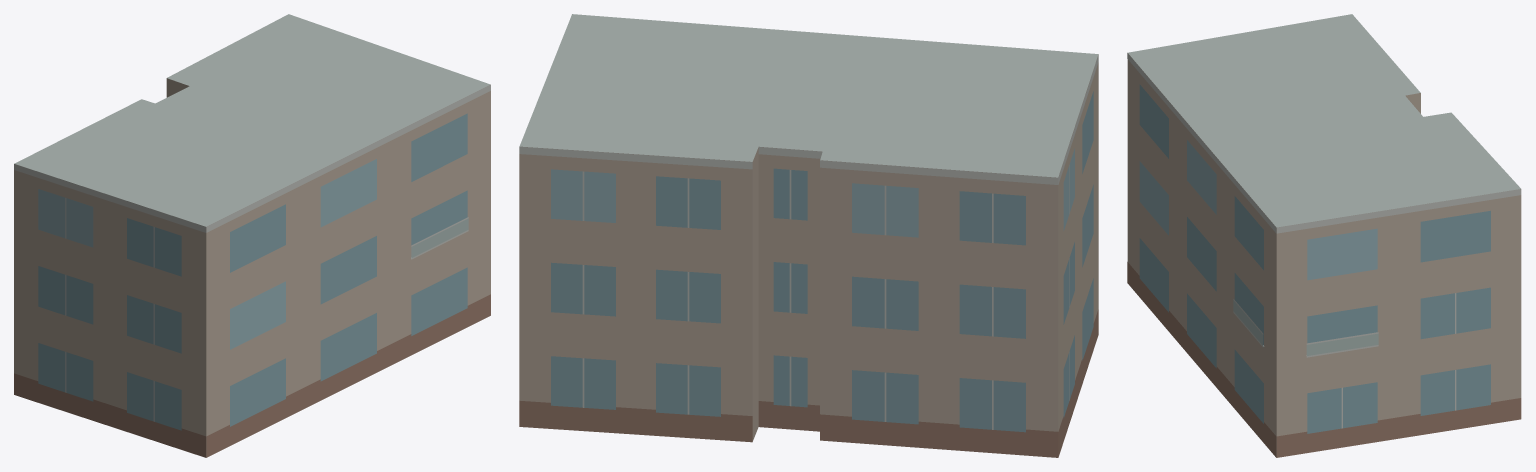
File: survey-upis-32673058.glb
3 views of the same model, side by side, from view 1: azimuth 30°, elevation 25°; view 2: azimuth 150°, elevation 25°; view 3: azimuth 270°, elevation 25° (orthographic). The views are drawn at different scales.
Visible parts, largest first — view 1: survey-upis-32673058.tmp; view 2: survey-upis-32673058.tmp; view 3: survey-upis-32673058.tmp.
Boxes of the visible parts, <box> form: survey-upis-32673058.tmp: <box>14,14,490,457</box>; survey-upis-32673058.tmp: <box>519,14,1098,457</box>; survey-upis-32673058.tmp: <box>1127,14,1521,457</box>.
Bounding box in the file's own units: 18.2 × 9.15 × 14.19.
